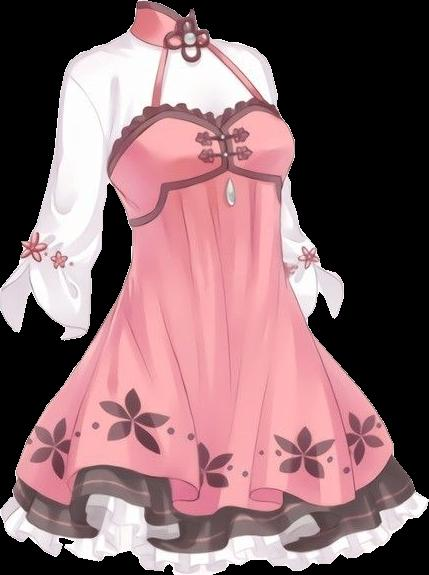Bodice: (64, 1, 294, 257)
Hemline: (0, 501, 428, 574), (9, 486, 417, 555), (10, 455, 393, 520)
Neckline: (129, 124, 287, 227), (105, 103, 279, 171), (127, 29, 200, 49), (134, 1, 194, 22)
Skirt: (0, 247, 427, 574)
Sleeve: (0, 74, 110, 340)
Sleeveline: (62, 70, 112, 182)
